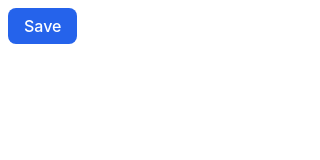
Scenario: SubmitButton › reuses Button's loading state while submitting
This screenshot has width=320, height=160.
What coordinates should you click on to do the following:
click the button "Save"
I would click on:
 (43, 26)
Its box is [8,8,78,44].
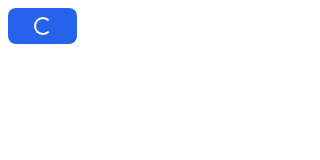
Check: the button named "Save" has attribute data-loading, box [8,8,78,44]
